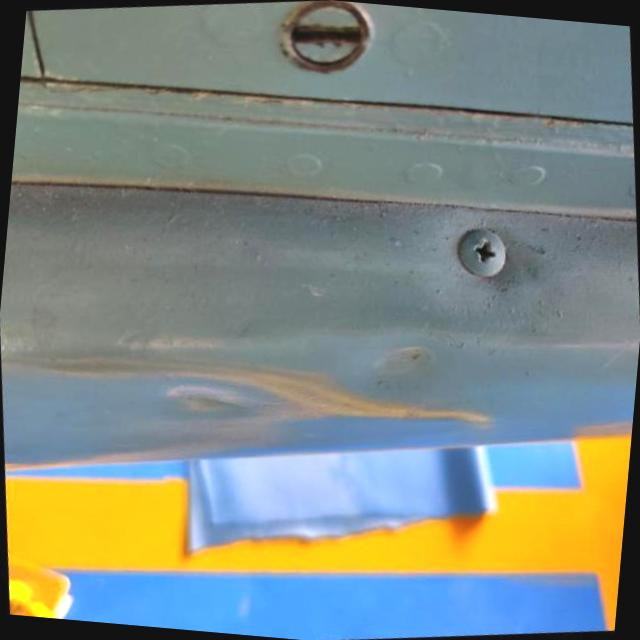dent: (0, 330, 488, 504)
